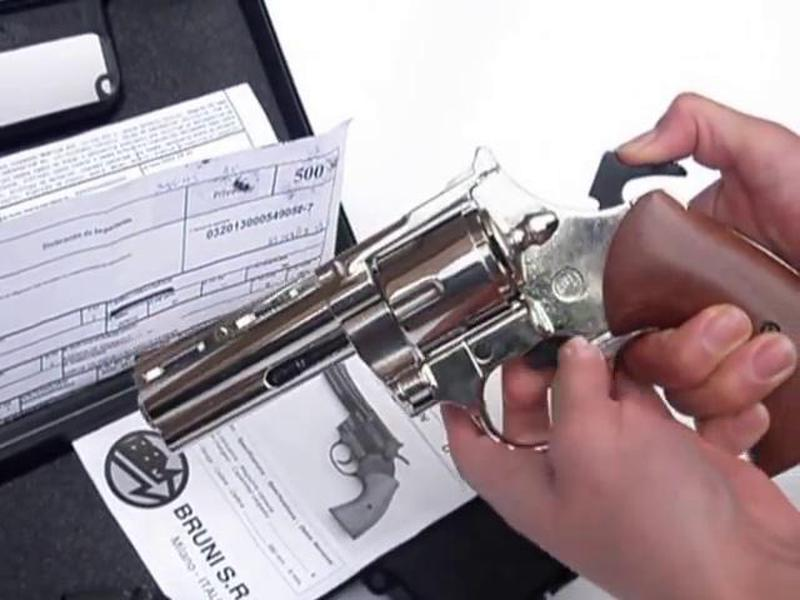Revolver: (115, 137, 697, 459)
